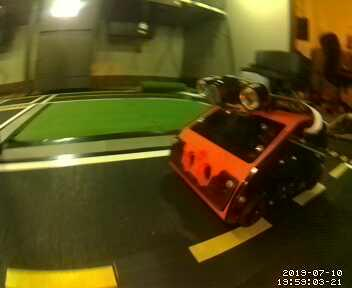pheeno: (170, 47, 324, 226)
